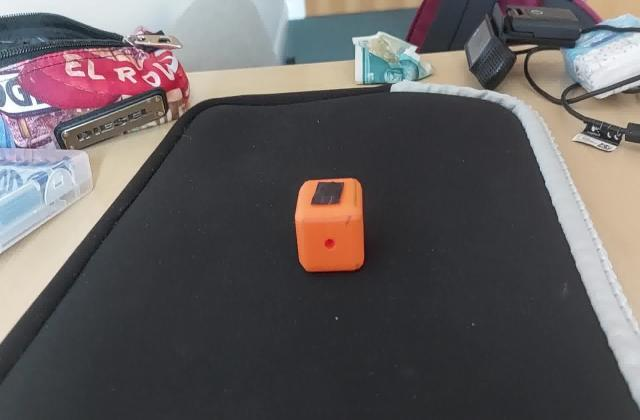black: (306, 178, 350, 207)
cube: (292, 174, 366, 276)
